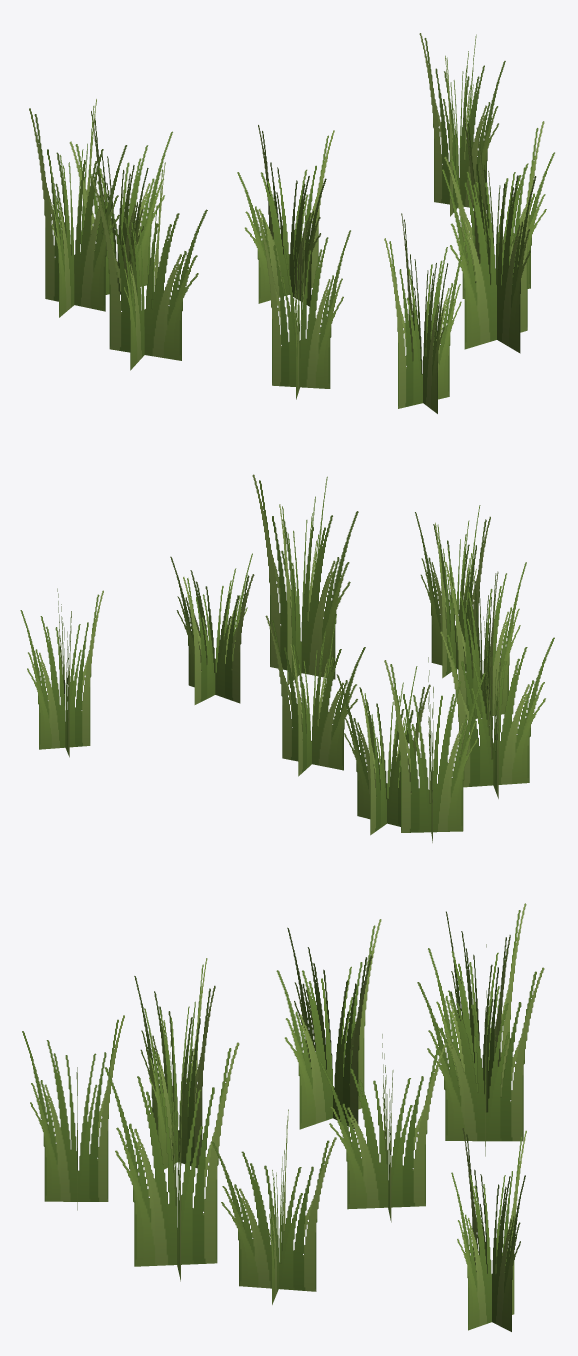
File: GrassTallA.glb
The picture shows the model from 3 angles, top to bottom: view 1: azimuth 30°, elevation 25°; view 2: azimuth 150°, elevation 25°; view 3: azimuth 270°, elevation 25°; orthographic projection. The views are drawn at different scales.
Parts seen in each view (by area): view 1: GrassTallA_LOD0; view 2: GrassTallA_LOD0; view 3: GrassTallA_LOD0.
Part boxes in pixels (left/top/right/bottom): GrassTallA_LOD0: left=29, top=33, right=554, bottom=413; GrassTallA_LOD0: left=20, top=474, right=554, bottom=842; GrassTallA_LOD0: left=22, top=903, right=544, bottom=1331.
Size of what is drawn, in the model's own units: 2.38 by 0.9885 by 2.21.
Materials: 1 (1 with a texture image).
